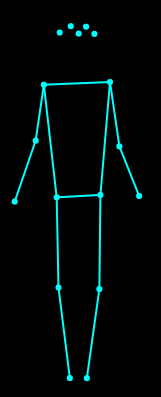mountain: (6, 19, 145, 383)
